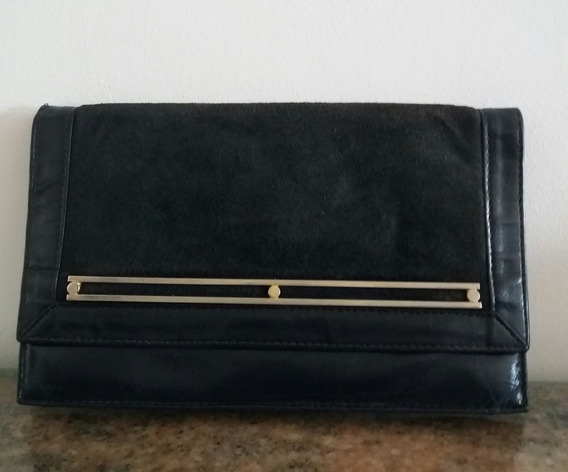cartera: (13, 100, 534, 418)
